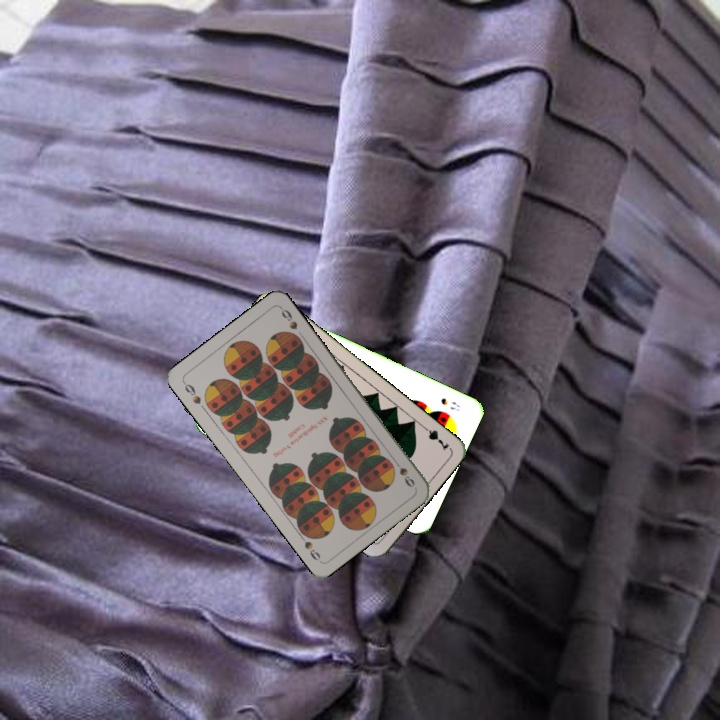G7: (417, 421, 452, 453)
S8: (437, 394, 462, 414)
S9: (389, 455, 418, 490), (179, 378, 204, 407)
